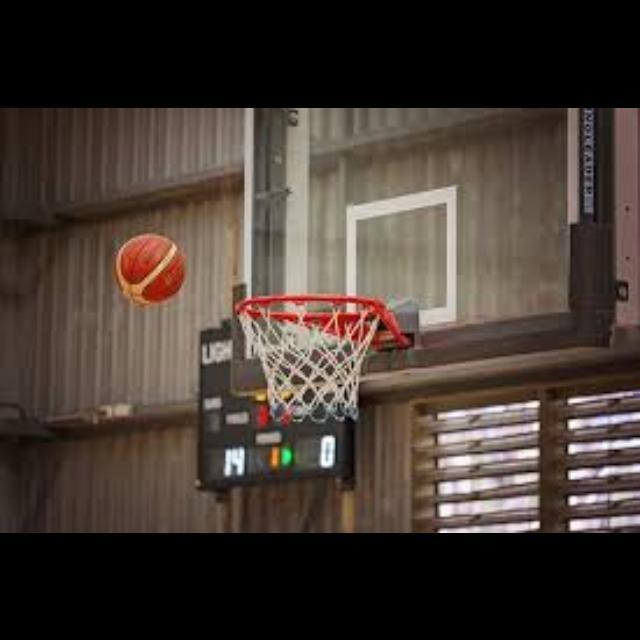basketball: (114, 233, 184, 300)
rim: (238, 293, 384, 421)
